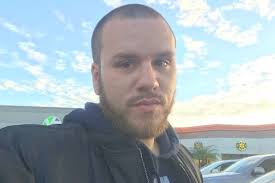white_male: (95, 24, 182, 131)
